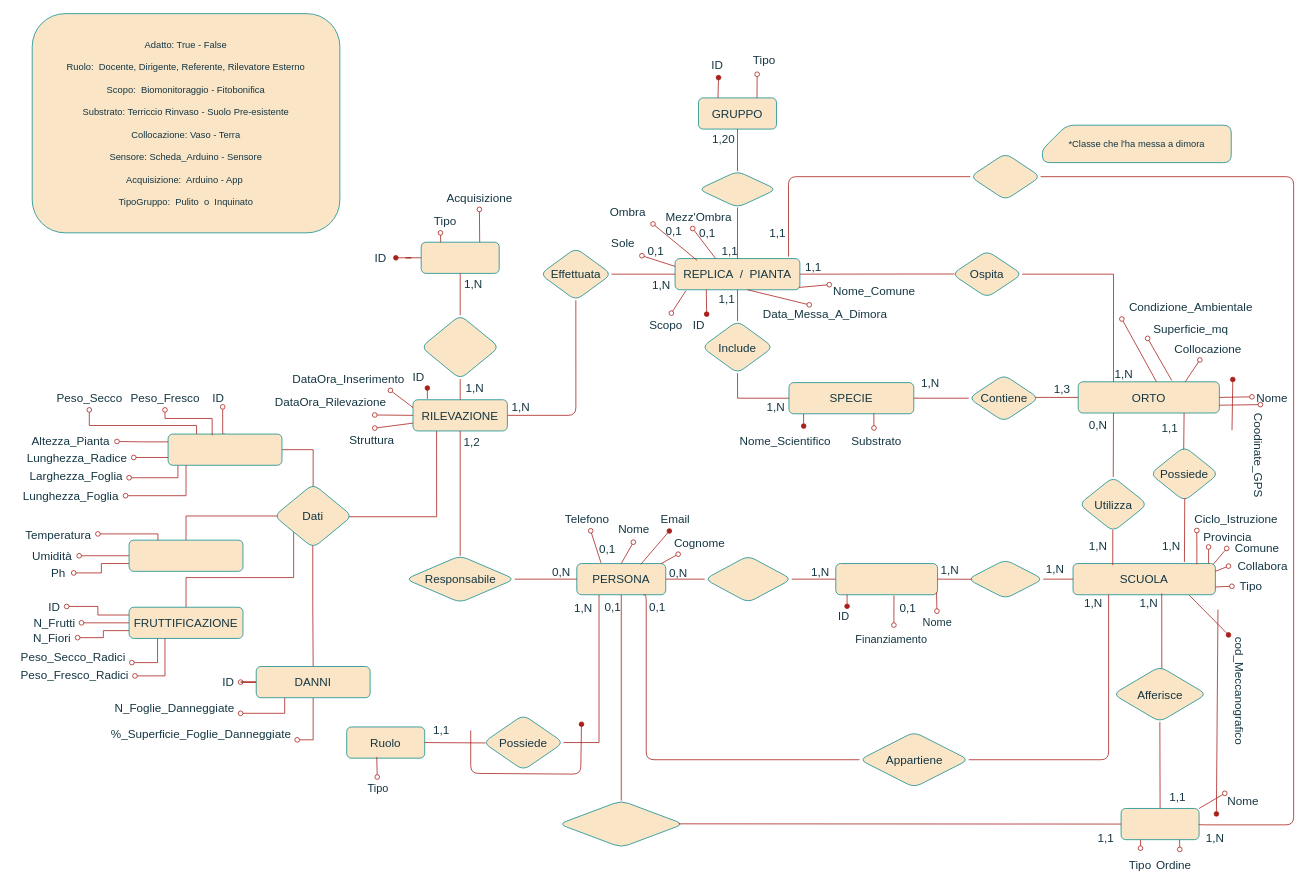
Image size: 1311x890. Some labels were removed from this diagram. Here are the shapes that lost their labels. From the top down, the centre of each, then its label:
the point at 737,188: Contenuta
the point at 1005,176: Coltiva*
the point at 459,257: SENSORE
the point at 459,346: Rilevata
the point at 224,449: BIOMASSA
the point at 185,555: PARAMETRi
the point at 748,579: Partecipa
the point at 886,579: PROGETTO
the point at 1005,579: Iscritta
the point at 621,823: Rappresentata
the point at 1159,824: CLASSE
